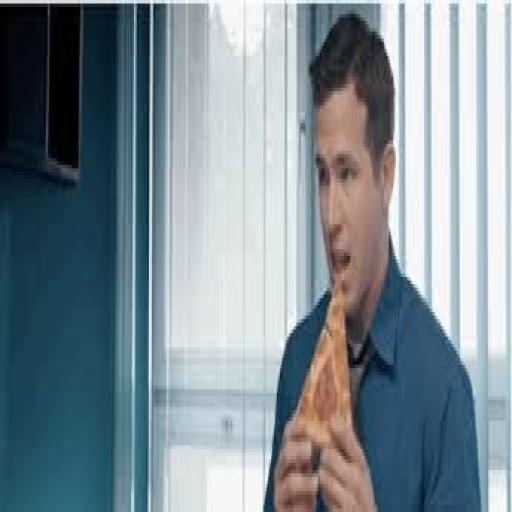eating: (259, 10, 484, 508)
